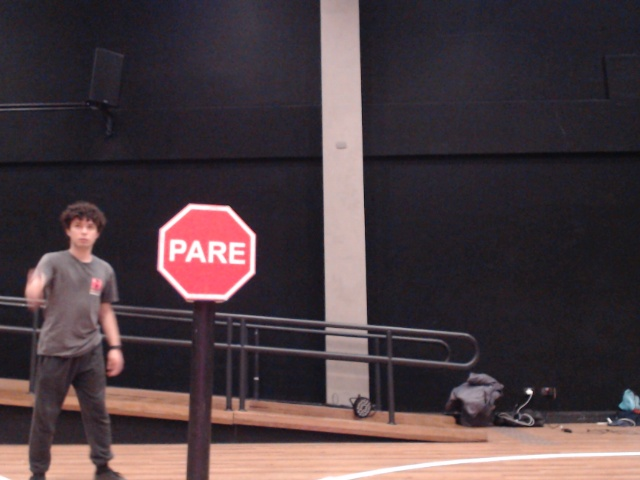SEMAFORO: (146, 193, 284, 320)
